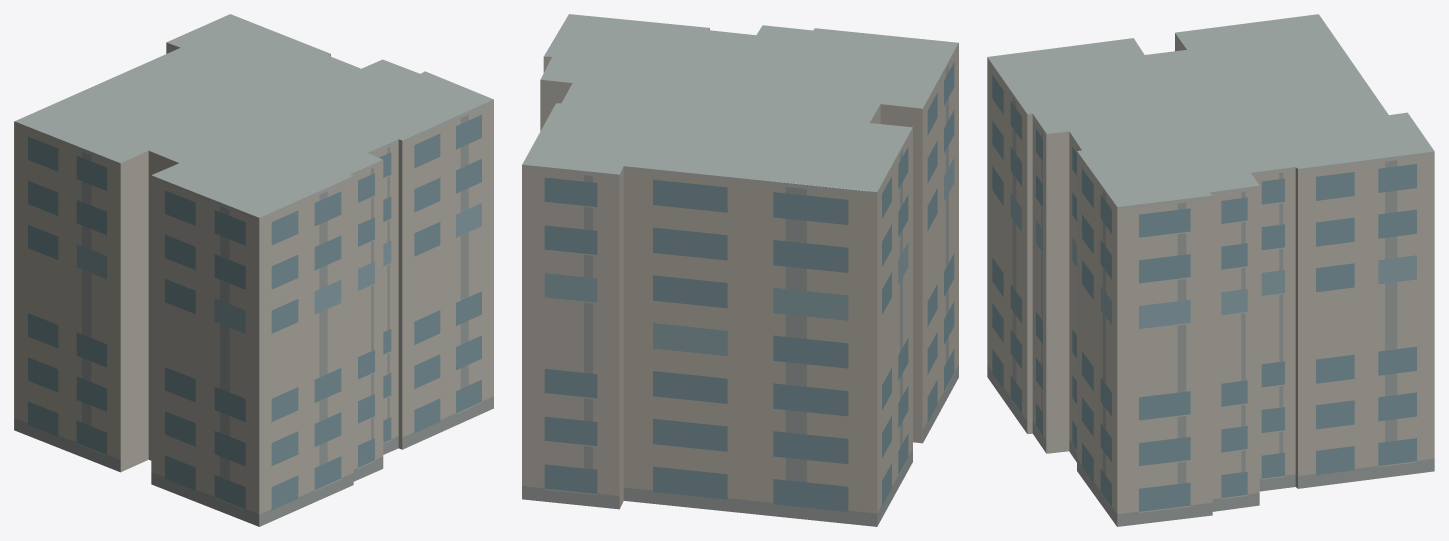
The model's file is survey-upis-32788630.glb.
3 views of the same model, side by side, from view 1: azimuth 30°, elevation 25°; view 2: azimuth 150°, elevation 25°; view 3: azimuth 270°, elevation 25° (orthographic). The views are drawn at different scales.
Visible parts, largest first — view 1: survey-upis-32788630.tmp; view 2: survey-upis-32788630.tmp; view 3: survey-upis-32788630.tmp.
Boxes of the visible parts, box(x1,y1,x2,y2) form: survey-upis-32788630.tmp: box(14, 14, 493, 526); survey-upis-32788630.tmp: box(522, 14, 958, 526); survey-upis-32788630.tmp: box(987, 14, 1434, 526).
Size of the model in its own units: 26.02 by 20.1 by 25.49.
